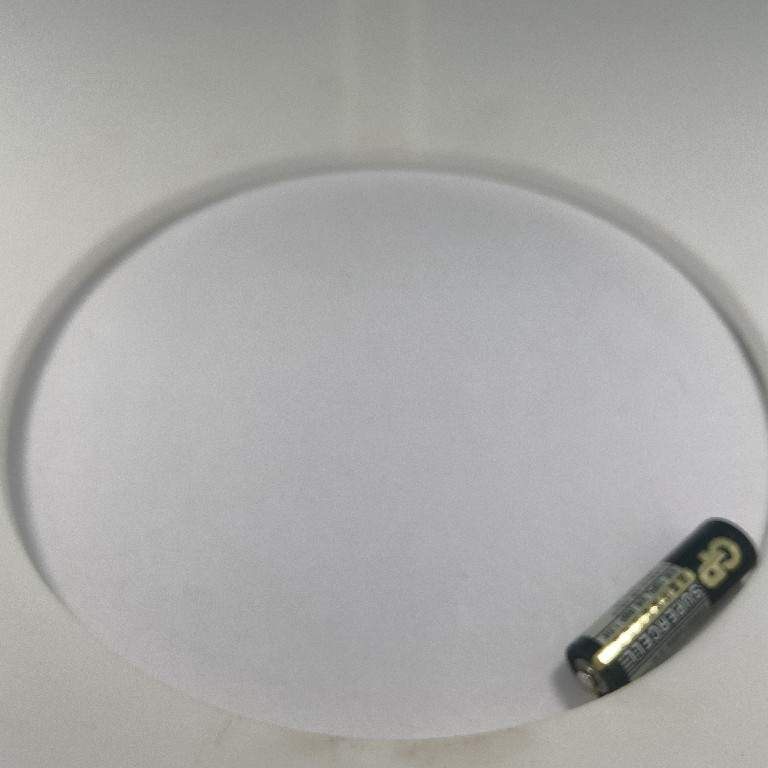charge: (559, 506, 764, 704)
